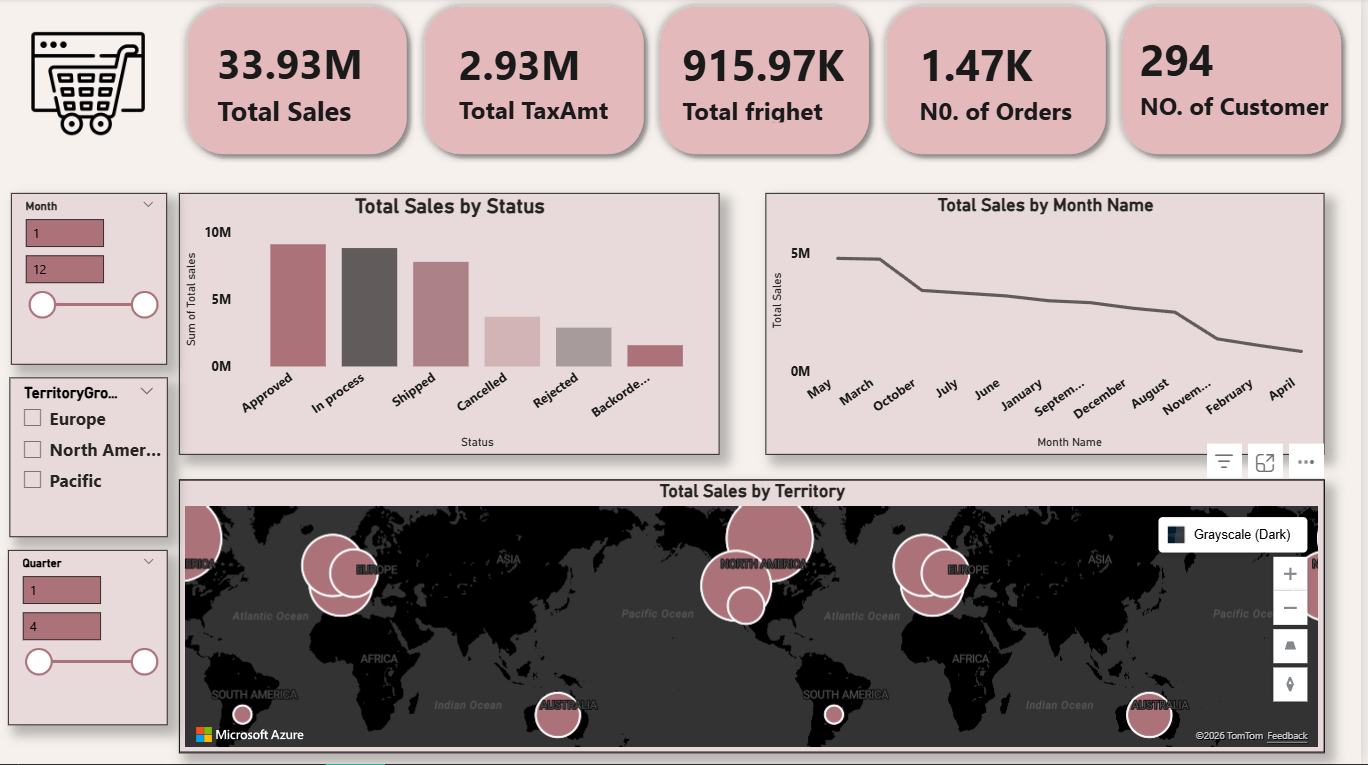

What the dashboard file says about the page in this screenshot:
{"tool":"powerbi","page":{"name":"Dashboard2","canvas":[1280,720],"ordinal":1},"visuals":[{"type":"columnChart","title":"Total Sales by Status","fields":{"Y":["Sum(fact_Sales.Total sales)"],"Category":["Dim Status.Status"]},"box":[169.4,183.7,508.1,246],"z":0},{"type":"shape","box":[169.4,0,222.1,155],"z":1},{"type":"cardVisual","fields":{"Data":["Dim Customer.Total Sales"]},"box":[175.7,20.8,201.3,113.4],"z":2},{"type":"shape","box":[391.4,0,222.1,155],"z":3},{"type":"cardVisual","fields":{"Data":["NUM of Customer.Total TaxAmt"]},"box":[402.6,20.8,201.3,113.4],"z":4},{"type":"shape","box":[613.5,0,212.5,155],"z":5},{"type":"cardVisual","fields":{"Data":["Dim Customer.Total frighet"]},"box":[613.5,20.8,212.5,113.4],"z":6},{"type":"shape","box":[826,0,222.1,155],"z":7},{"type":"cardVisual","fields":{"Data":["Dim Customer.NUM of Orders"]},"box":[835.6,20.8,222.1,113.4],"z":8},{"type":"cardVisual","fields":{"Data":["NUM of Customer.NUM of Customer"]},"box":[1033.7,0,246,134.2],"z":9},{"type":"shape","box":[1048.1,0,222.1,155],"z":10},{"type":"cardVisual","fields":{"Data":["NUM of Customer.NUM of Customer"]},"box":[1043.3,11.2,236.5,123],"z":11},{"type":"lineChart","fields":{"Y":["Dim Customer.Total Sales"],"Category":["Dim Date.Month Name"]},"box":[720.5,183.7,525.6,246],"z":12},{"type":"azureMap","fields":{"Size":["Dim Customer.Total Sales"],"Category":["Dim Territory.Territory"]},"box":[169.4,452.1,1076.8,257.2],"z":13},{"type":"slicer","fields":{"Values":["Dim Date.Month"]},"box":[11.2,183.7,147,161.4],"z":14},{"type":"slicer","fields":{"Values":["Dim Territory.TerritoryGroup"]},"box":[9.6,356.3,148.6,150.2],"z":15},{"type":"slicer","fields":{"Values":["Dim Date.Quarter"]},"box":[8,519.2,150.2,164.6],"z":16},{"type":"image","box":[19.2,27.2,127.8,107],"z":17}]}

Visuals, with their boxes in screenshot pixels (x1, y1, x2, y2), scaled from the page's 1280x720 canvas onto the 1368x765 screenshot:
"Total Sales by Status" columnChart: bbox(181, 195, 724, 457)
shape: bbox(181, 0, 418, 165)
cardVisual - Dim Customer.Total Sales: bbox(188, 22, 403, 143)
shape: bbox(418, 0, 656, 165)
cardVisual - NUM of Customer.Total TaxAmt: bbox(430, 22, 645, 143)
shape: bbox(656, 0, 883, 165)
cardVisual - Dim Customer.Total frighet: bbox(656, 22, 883, 143)
shape: bbox(883, 0, 1120, 165)
cardVisual - Dim Customer.NUM of Orders: bbox(893, 22, 1130, 143)
cardVisual - NUM of Customer.NUM of Customer: bbox(1105, 0, 1367, 143)
shape: bbox(1120, 0, 1358, 165)
cardVisual - NUM of Customer.NUM of Customer: bbox(1115, 12, 1367, 143)
lineChart - Dim Customer.Total Sales x Dim Date.Month Name: bbox(770, 195, 1332, 457)
azureMap - Dim Customer.Total Sales x Dim Territory.Territory: bbox(181, 480, 1332, 754)
slicer - Dim Date.Month: bbox(12, 195, 169, 367)
slicer - Dim Territory.TerritoryGroup: bbox(10, 379, 169, 538)
slicer - Dim Date.Quarter: bbox(9, 552, 169, 727)
image: bbox(21, 29, 157, 143)
